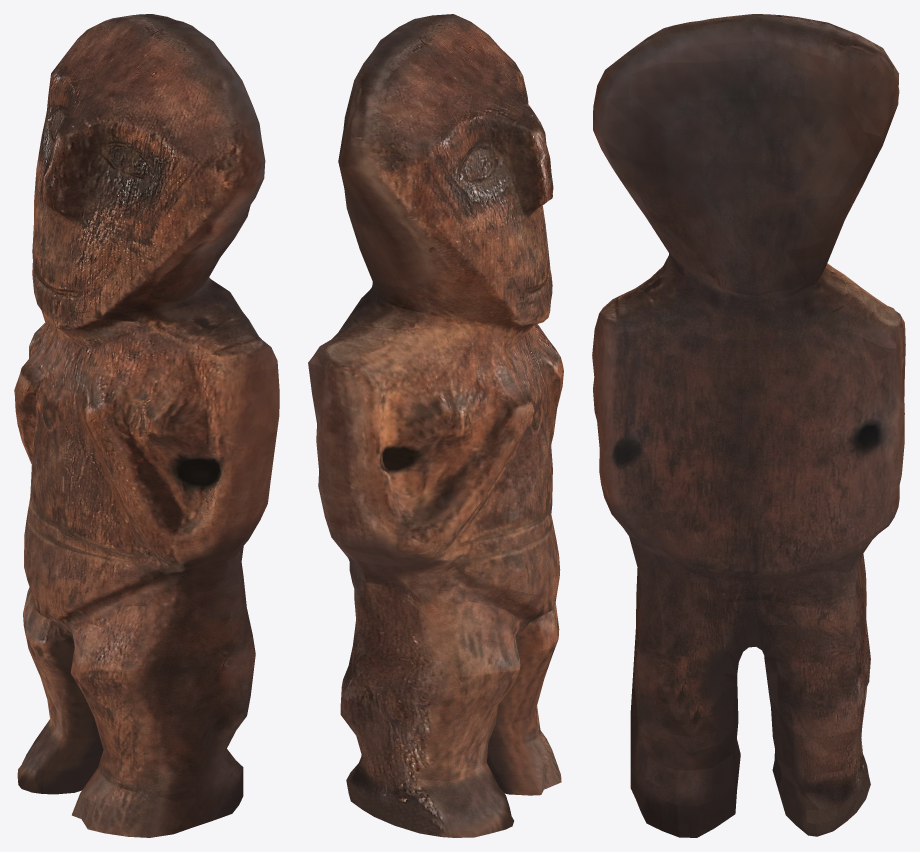
3 renders of one model, left to right at view 1: azimuth 30°, elevation 25°; view 2: azimuth 150°, elevation 25°; view 3: azimuth 270°, elevation 25°, orthographic. The views are drawn at different scales.
Parts seen in each view (by area): view 1: Box001_01 - Default_0; view 2: Box001_01 - Default_0; view 3: Box001_01 - Default_0.
Part boxes in pixels (box(x1,y1,x2,y2)): Box001_01 - Default_0: box(14, 14, 279, 837); Box001_01 - Default_0: box(308, 14, 563, 837); Box001_01 - Default_0: box(592, 14, 905, 837).
Bounding box in the file's own units: 0.8763 × 3.31 × 1.18.
1 material, 1 textured.
